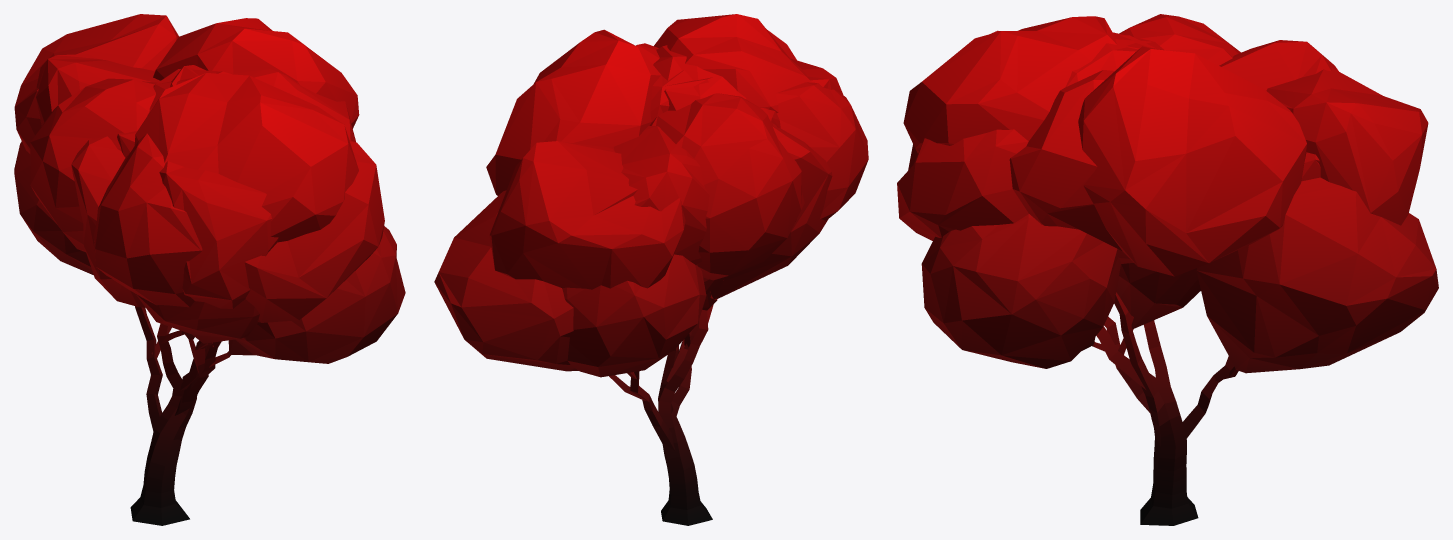
File: TreeMaple09.fbx
The picture shows the model from 3 angles, left to right: view 1: azimuth 30°, elevation 25°; view 2: azimuth 150°, elevation 25°; view 3: azimuth 270°, elevation 25°; orthographic projection. The views are drawn at different scales.
Parts seen in each view (by area): view 1: TreeMaple09_LOD0; view 2: TreeMaple09_LOD0; view 3: TreeMaple09_LOD0.
Part boxes in pixels (x1,y1,x2,y2): TreeMaple09_LOD0: (14,14,405,525); TreeMaple09_LOD0: (434,14,868,525); TreeMaple09_LOD0: (897,14,1438,525).
Size of what is drawn, in the model's own units: 456 by 686 by 665.
